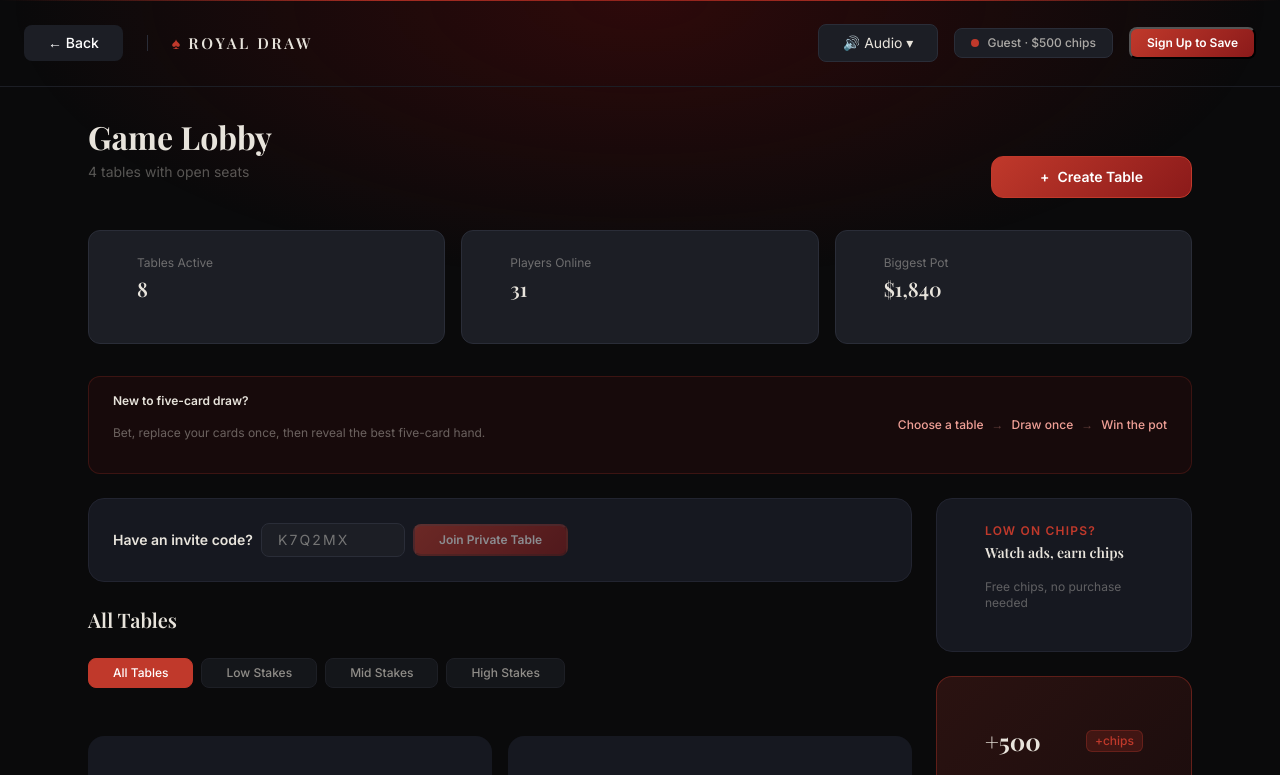
Test: Lobby: join with an invite code › join button is disabled until a code is typed
Expected: the button "Join Private Table" is disabled, x1=413 y1=524 x2=568 y2=556
Type "A" into the field labelled "Have an invite code?" at (333, 540), box x1=261 y1=523 x2=405 y2=557
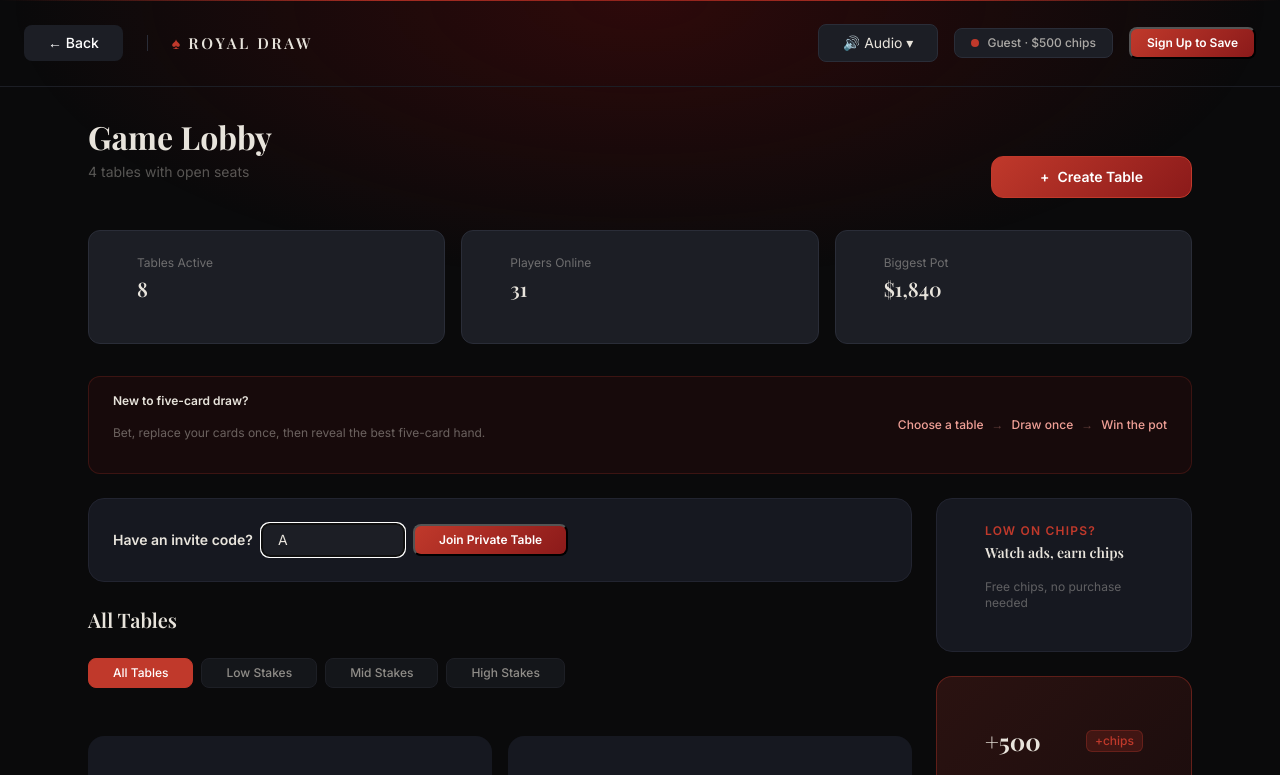
Expected: the button "Join Private Table" is enabled, x1=413 y1=524 x2=568 y2=556
